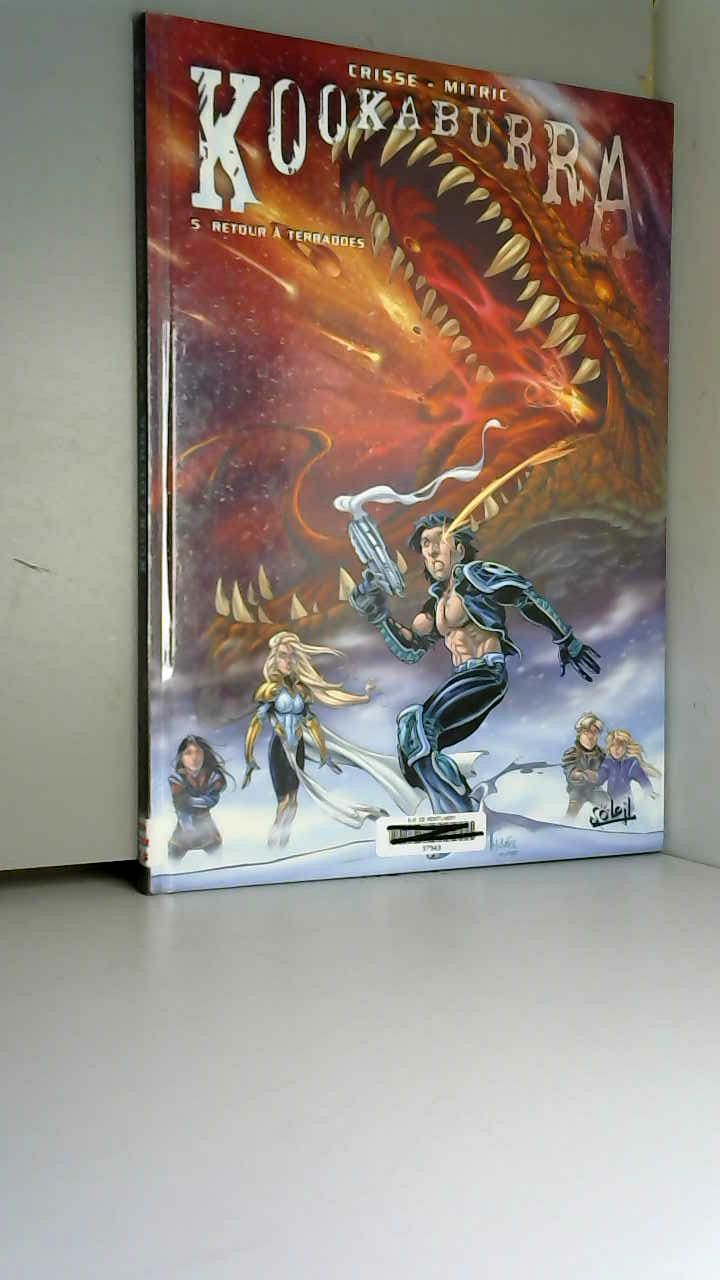book: (110, 0, 720, 917)
